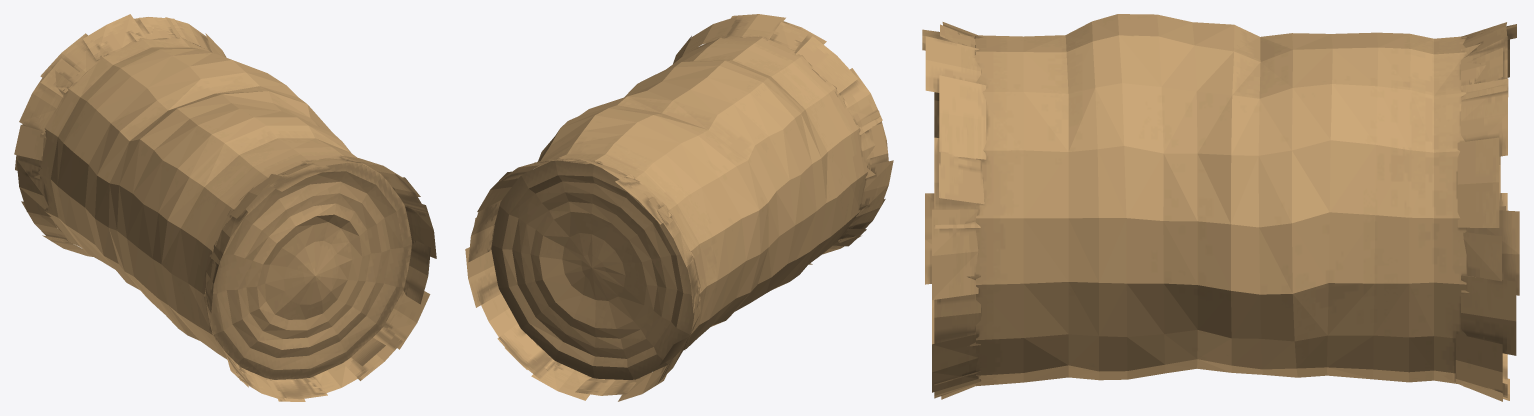
Rendered from HayBale_01.fbx.
The picture shows the model from 3 angles, left to right: view 1: azimuth 30°, elevation 25°; view 2: azimuth 150°, elevation 25°; view 3: azimuth 270°, elevation 25°; orthographic projection. The views are drawn at different scales.
Parts seen in each view (by area): view 1: SM_Town_Farm_HayBale_01.mo; view 2: SM_Town_Farm_HayBale_01.mo; view 3: SM_Town_Farm_HayBale_01.mo.
Boxes of the visible parts, <box> form: SM_Town_Farm_HayBale_01.mo: <box>14,14,436,401</box>; SM_Town_Farm_HayBale_01.mo: <box>465,14,893,401</box>; SM_Town_Farm_HayBale_01.mo: <box>922,14,1519,401</box>.
Size of the model in its own units: 226 by 221 by 337.
